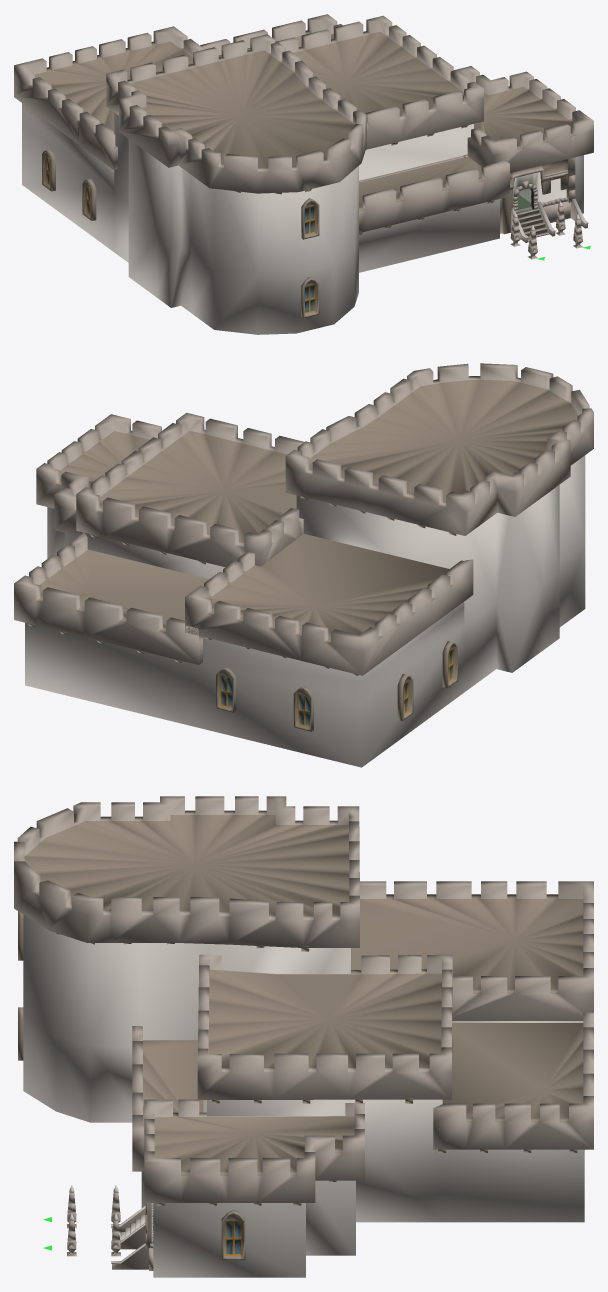
The model's file is royaltomb_rendermesh.fbx.
3 renders of one model, top to bottom at view 1: azimuth 30°, elevation 25°; view 2: azimuth 150°, elevation 25°; view 3: azimuth 270°, elevation 25°, orthographic. The views are drawn at different scales.
Visible parts, largest first — view 1: exterior_mesh, entranceroom_details; view 2: exterior_mesh; view 3: exterior_mesh, entranceroom_details.
Boxes of the visible parts, x1,y1,x2,y2 form: exterior_mesh: (14, 14, 593, 334); entranceroom_details: (502, 157, 588, 259); exterior_mesh: (14, 363, 593, 767); exterior_mesh: (14, 796, 593, 1277); entranceroom_details: (67, 1185, 153, 1270).
Size of the model in its own units: 234 by 97.17 by 220.
